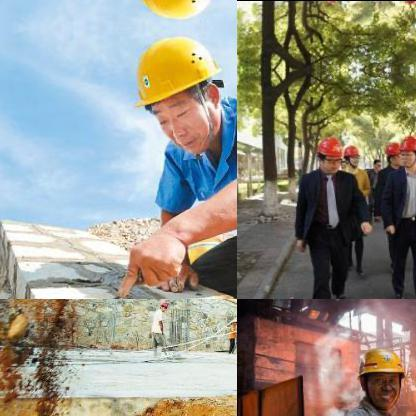Helmet: (118, 26, 228, 156), (354, 341, 408, 409), (117, 0, 231, 28), (314, 132, 342, 170), (397, 132, 415, 167), (382, 134, 402, 164), (340, 140, 360, 168), (157, 299, 169, 312)
